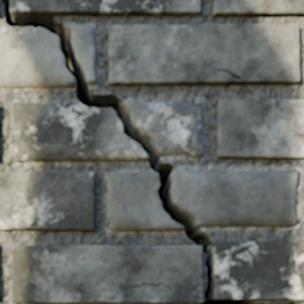brick: (109, 24, 299, 84), (12, 246, 201, 302), (0, 172, 94, 230), (214, 242, 303, 299), (217, 100, 303, 158), (11, 0, 199, 15), (213, 0, 303, 15)
broken_brick: (12, 101, 146, 161), (173, 168, 299, 226), (124, 98, 203, 157), (0, 27, 74, 88), (109, 171, 183, 230), (66, 24, 96, 85)
crack: (0, 0, 258, 303), (275, 302, 301, 303)
